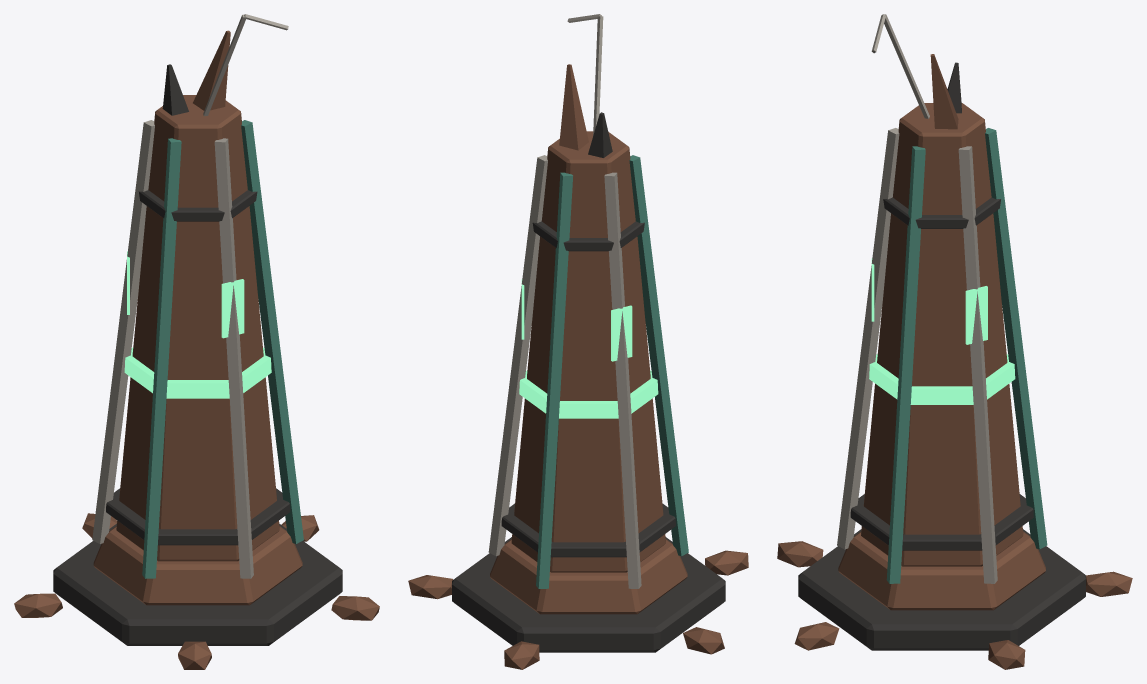
File: exo-pylon.glb
3 renders of one model, left to right at view 1: azimuth 30°, elevation 25°; view 2: azimuth 150°, elevation 25°; view 3: azimuth 270°, elevation 25°, orthographic. The views are drawn at different scales.
Parts seen in each view (by area): view 1: body, charge; view 2: body, charge; view 3: body, charge.
Part boxes in pixels (x1=…): body: x1=14, y1=14, x2=379, y2=669; charge: x1=124, y1=251, x2=271, y2=398; body: x1=408, y1=14, x2=748, y2=669; charge: x1=519, y1=279, x2=658, y2=418; body: x1=777, y1=14, x2=1132, y2=669; charge: x1=869, y1=258, x2=1015, y2=404.
Bounding box in the file's own units: 7.43 × 13.52 × 7.29.
